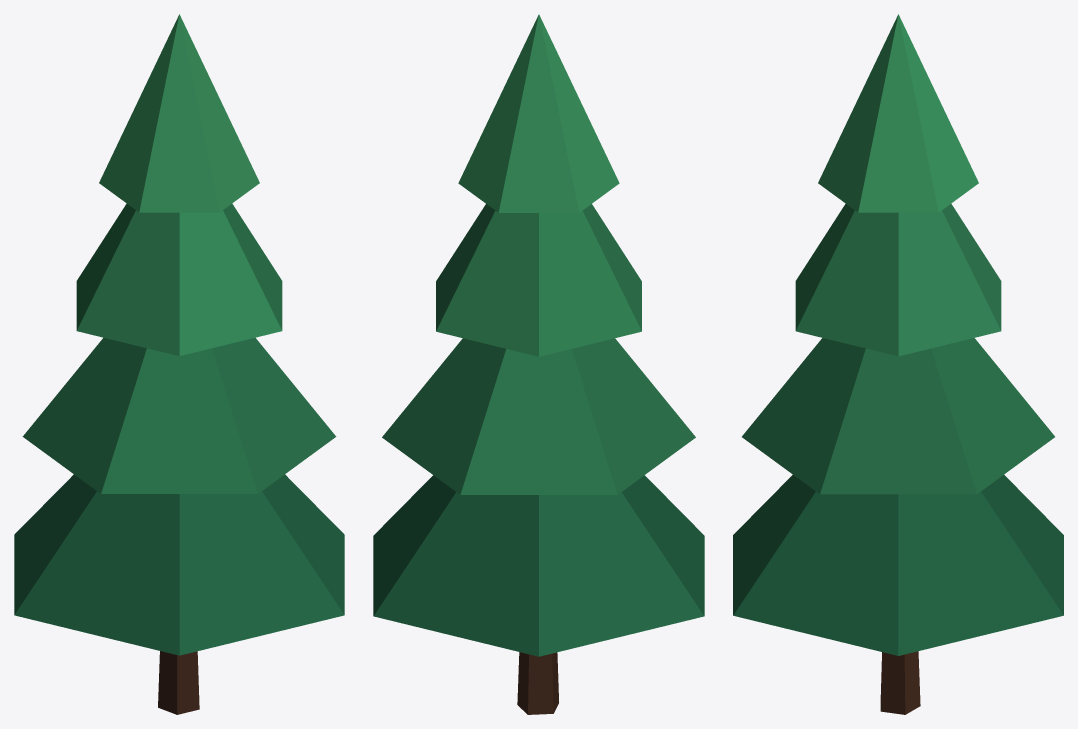
The model's file is prop_tree_b.glb.
The picture shows the model from 3 angles, left to right: view 1: azimuth 30°, elevation 25°; view 2: azimuth 150°, elevation 25°; view 3: azimuth 270°, elevation 25°; orthographic projection.
Visible parts, largest first — view 1: prop_tree_b; view 2: prop_tree_b; view 3: prop_tree_b.
Part boxes in pixels (box(x1,y1,x2,y2)): prop_tree_b: box(14, 14, 344, 714); prop_tree_b: box(373, 14, 704, 714); prop_tree_b: box(733, 14, 1063, 714).
Size of the model in its own units: 4.5 by 9 by 3.9.
